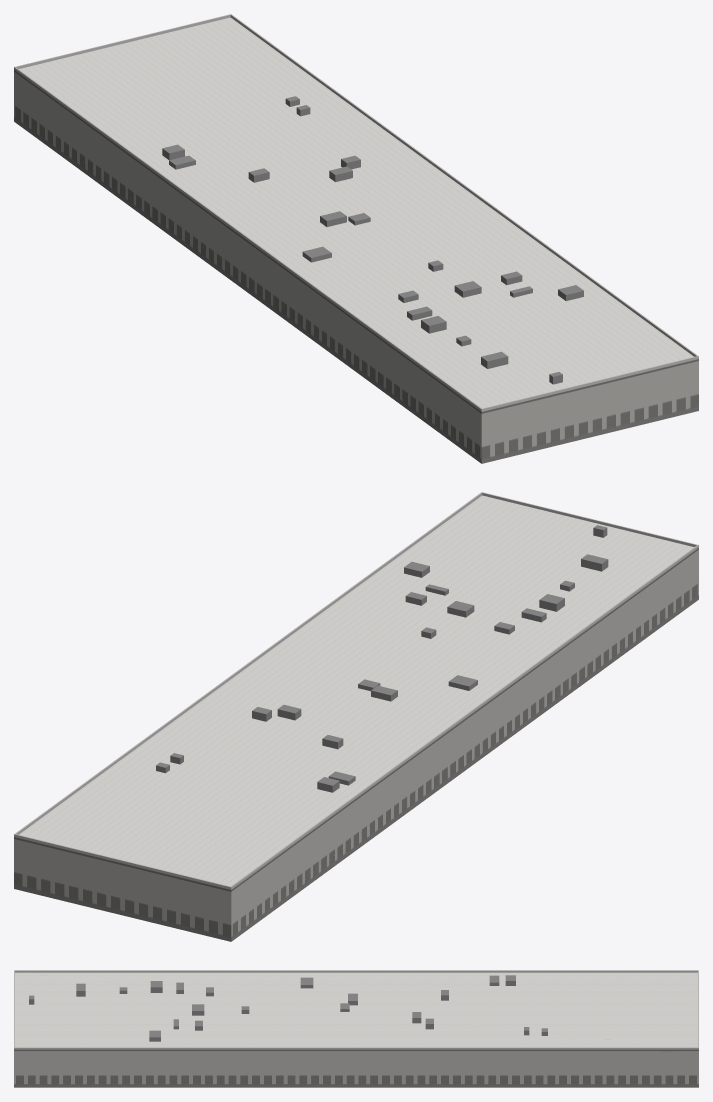
Rendered from khsv_cargo_70x261.glb.
3 renders of one model, top to bottom at view 1: azimuth 30°, elevation 25°; view 2: azimuth 150°, elevation 25°; view 3: azimuth 270°, elevation 25°, orthographic. The views are drawn at different scales.
Visible parts, largest first — view 1: khsv_cargo_70x261_roof, khsv_cargo_70x261_cargo_wall, khsv_cargo_70x261_coping, khsv_cargo_70x261_plant; view 2: khsv_cargo_70x261_roof, khsv_cargo_70x261_cargo_wall, khsv_cargo_70x261_coping, khsv_cargo_70x261_plant; view 3: khsv_cargo_70x261_roof, khsv_cargo_70x261_cargo_wall, khsv_cargo_70x261_coping, khsv_cargo_70x261_plant.
Part boxes in pixels (box(x1,y1,x2,y2)): khsv_cargo_70x261_roof: box(19, 17, 693, 408); khsv_cargo_70x261_cargo_wall: box(14, 70, 698, 463); khsv_cargo_70x261_coping: box(14, 14, 698, 411); khsv_cargo_70x261_plant: box(162, 96, 583, 384); khsv_cargo_70x261_roof: box(19, 495, 693, 886); khsv_cargo_70x261_cargo_wall: box(14, 548, 698, 941); khsv_cargo_70x261_coping: box(14, 492, 698, 889); khsv_cargo_70x261_plant: box(156, 525, 608, 792); khsv_cargo_70x261_roof: box(15, 972, 697, 1047); khsv_cargo_70x261_cargo_wall: box(14, 1049, 698, 1087); khsv_cargo_70x261_coping: box(14, 970, 698, 1049); khsv_cargo_70x261_plant: box(29, 975, 547, 1041).
Bounding box in the file's own units: 70 × 18.4 × 261.
Materials: 4 (4 with a texture image).
